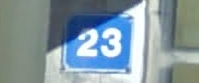digit: (98, 25, 124, 57), (77, 29, 100, 61)
